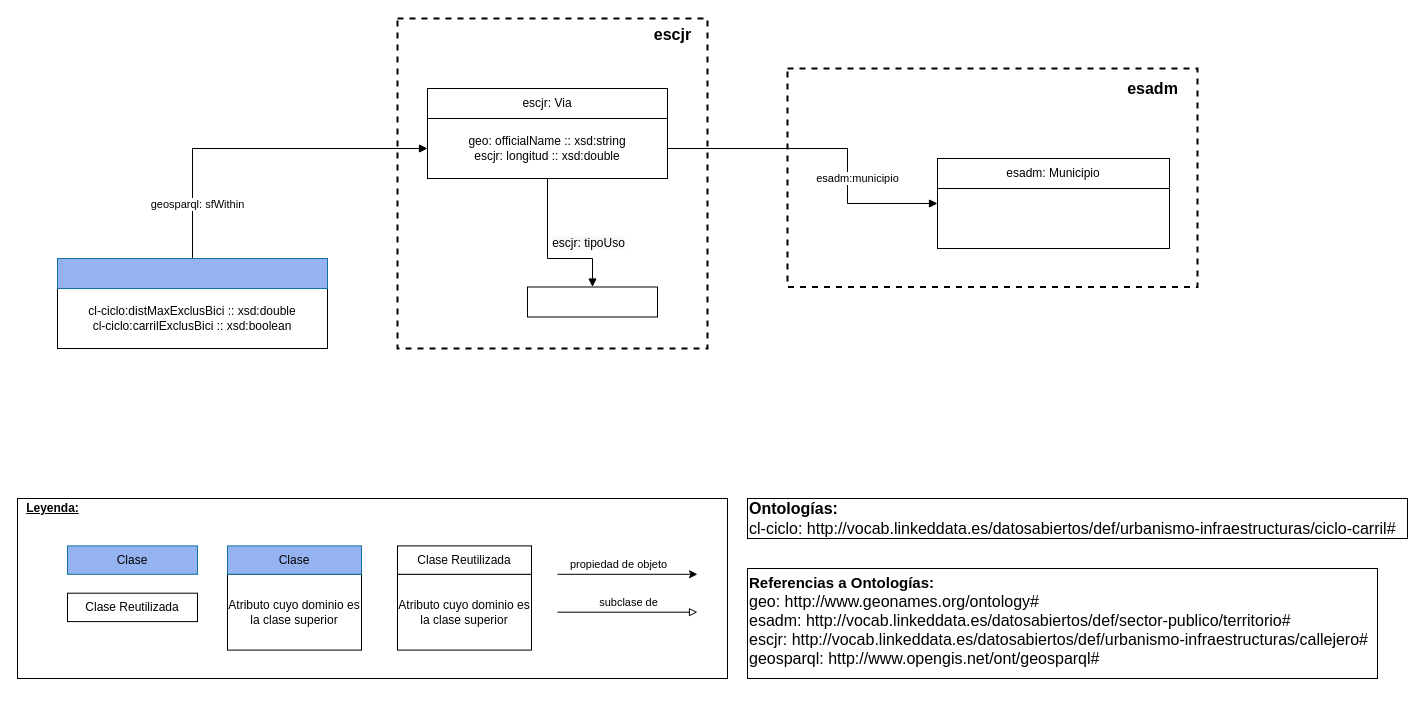
Some shapes in this 1425 by 704 pixel diagram are drawn without their labels. Each missing label, with the centre of its shape:
cl-ciclo: CicloCarril: point (192, 273)
geo: officialName :: xsd:string esadm: codigoINE :: xsd:integer: point (1053, 218)
skos: Concept: point (592, 301)
